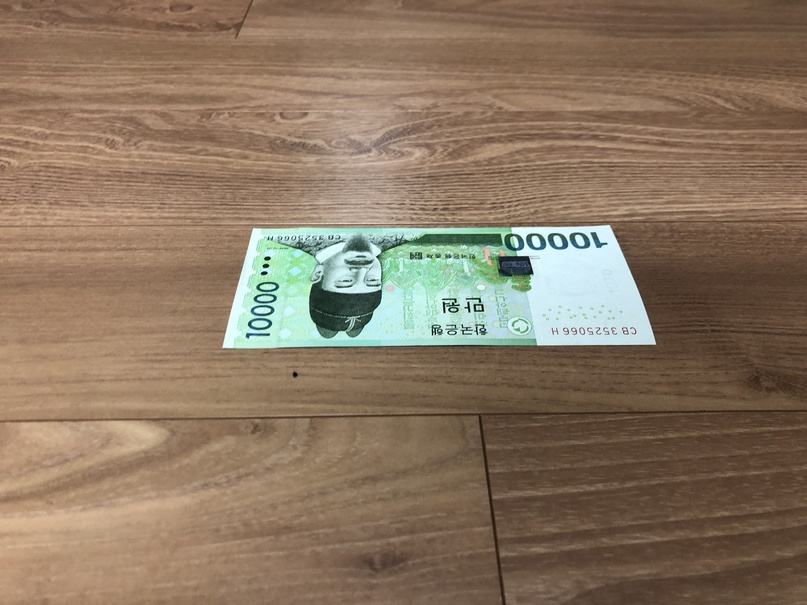10000won: (221, 226, 658, 350)
